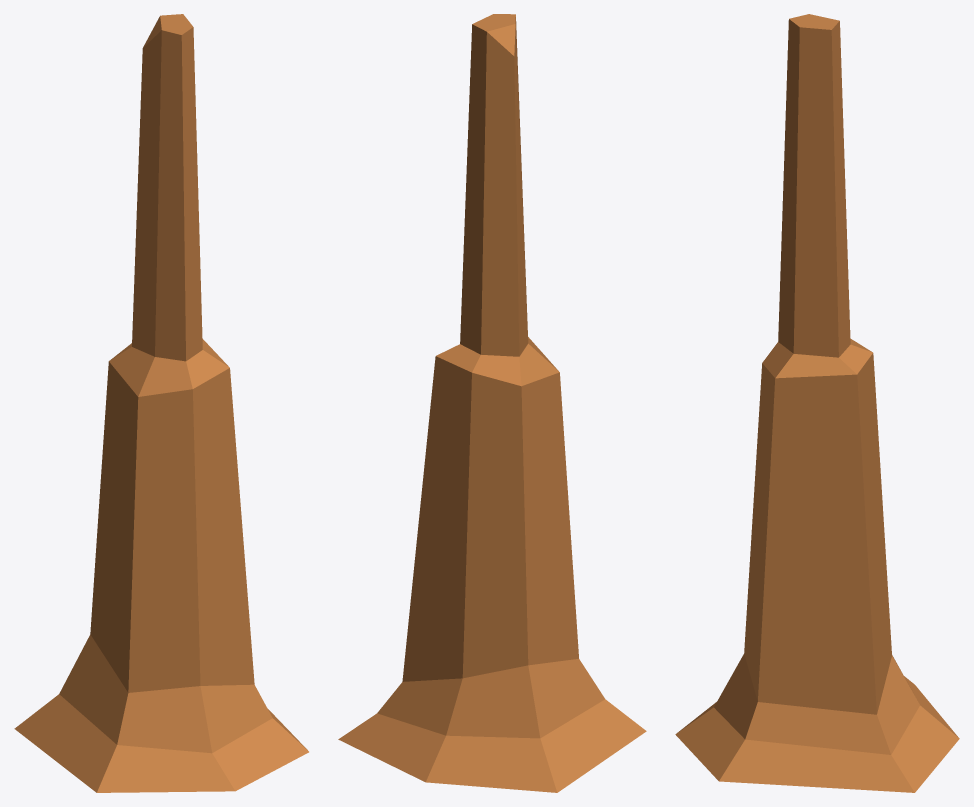
The model's file is ErectRock_long.fbx.
3 views of the same model, side by side, from view 1: azimuth 30°, elevation 25°; view 2: azimuth 150°, elevation 25°; view 3: azimuth 270°, elevation 25° (orthographic).
Visible parts, largest first — view 1: 平面.010; view 2: 平面.010; view 3: 平面.010.
Boxes of the visible parts, left/top/right/bottom form: 平面.010: left=14, top=14, right=308, bottom=792; 平面.010: left=338, top=14, right=646, bottom=792; 平面.010: left=675, top=14, right=959, bottom=792.
Bounding box in the file's own units: 156 × 170 × 473.
